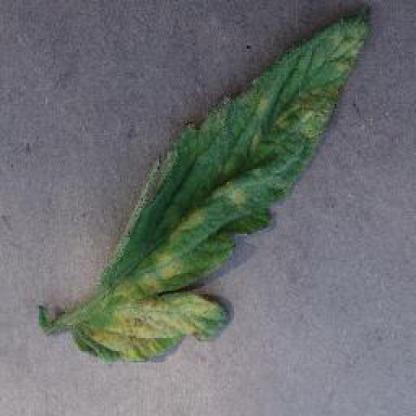Tomato_Leaf_Mold: (73, 5, 371, 362)
